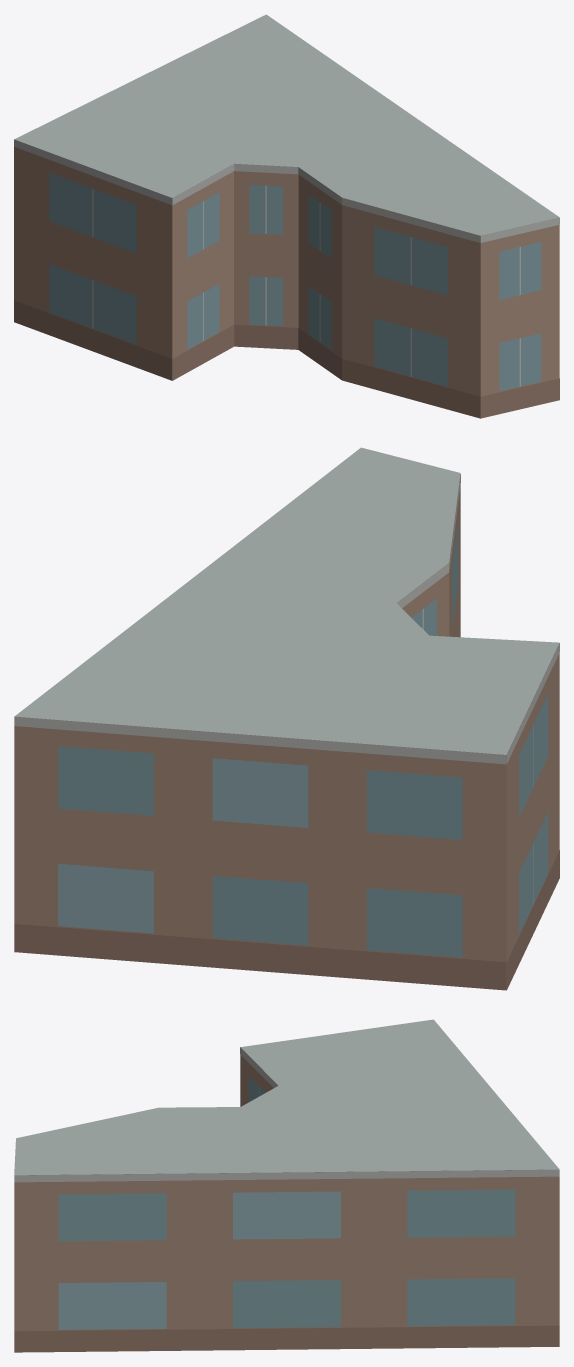
File: survey-upis-32766039.glb
The picture shows the model from 3 angles, top to bottom: view 1: azimuth 30°, elevation 25°; view 2: azimuth 150°, elevation 25°; view 3: azimuth 270°, elevation 25°; orthographic projection. The views are drawn at different scales.
Parts seen in each view (by area): view 1: survey-upis-32766039.tmp; view 2: survey-upis-32766039.tmp; view 3: survey-upis-32766039.tmp.
Boxes of the visible parts, x1,y1,x2,y2 form: survey-upis-32766039.tmp: [14, 14, 559, 418]; survey-upis-32766039.tmp: [14, 447, 559, 990]; survey-upis-32766039.tmp: [14, 1019, 559, 1352].
Size of the model in its own units: 11.52 by 6.1 by 17.04.
